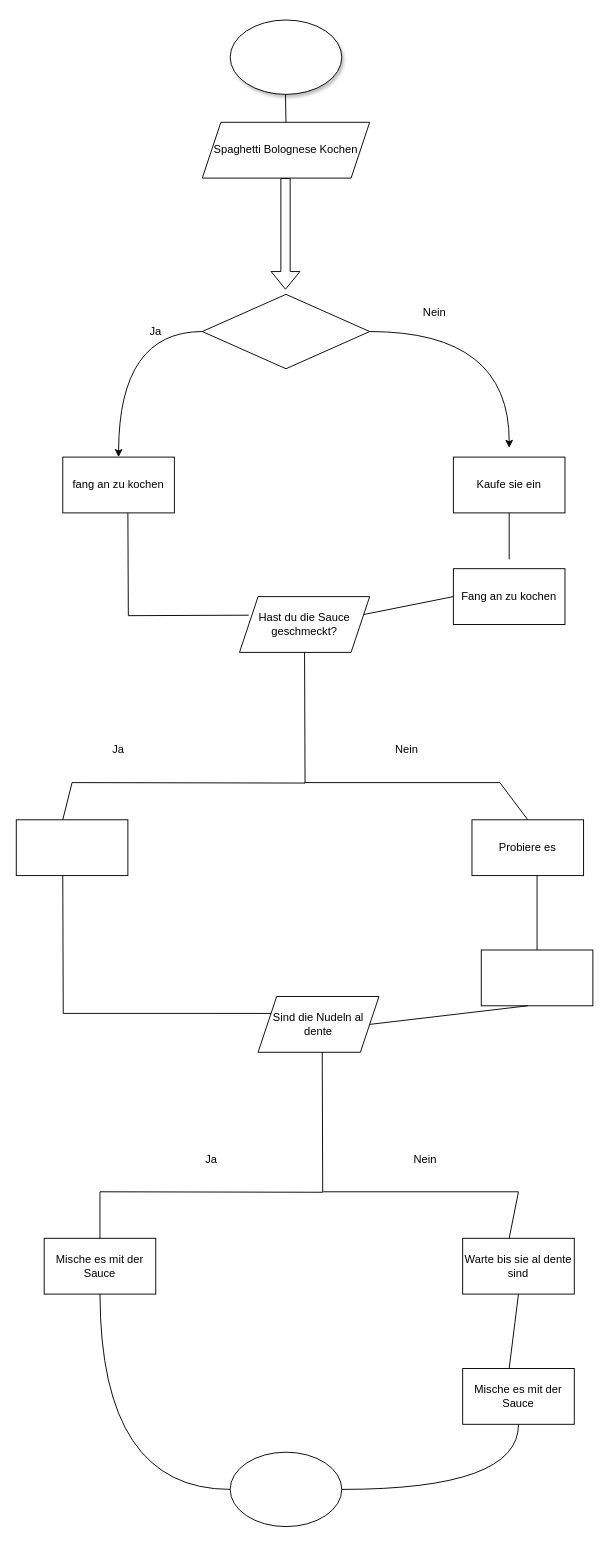
The diagram is 609 pixels wide and 1543 high, and some of its shapes have lost their labels. The centre of each missing label's shape, as x and y in pixels:
Ende: the point at 285,1489
fang mit den Nudeln an: the point at 536,977
Mach die Nudeln: the point at 71,847
Start: the point at 286,58
Zutaten vorhanden?: the point at 285,331
